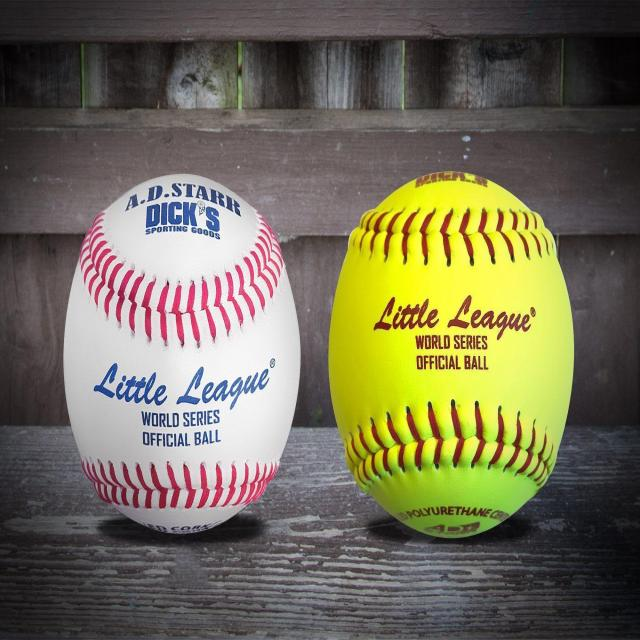baseball: (63, 168, 301, 541)
